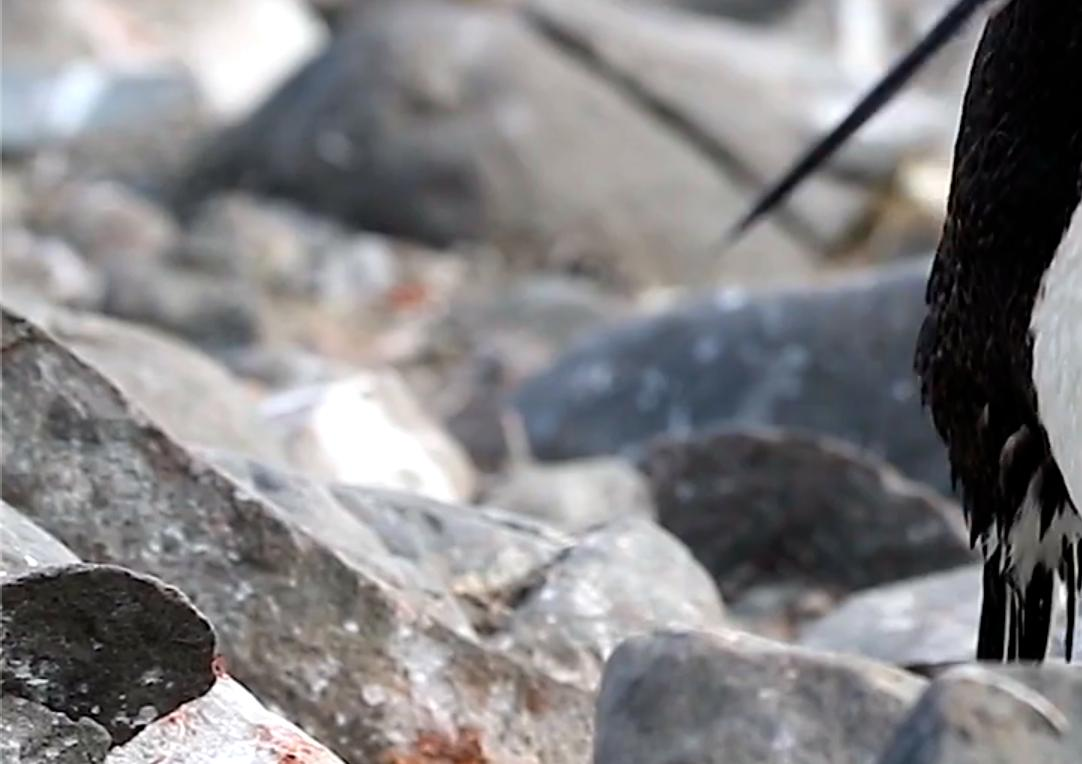Chinstrap Penguin: (941, 0, 1082, 666), (776, 663, 918, 664)
